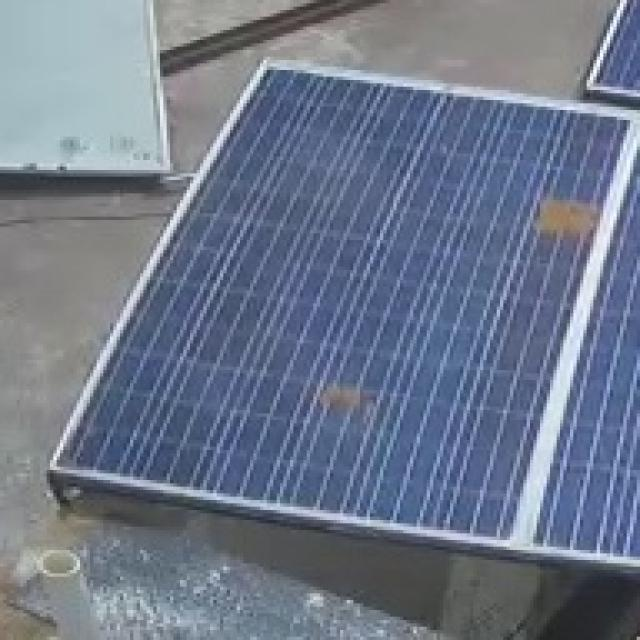Dusty: (522, 187, 598, 254), (318, 373, 381, 443)
